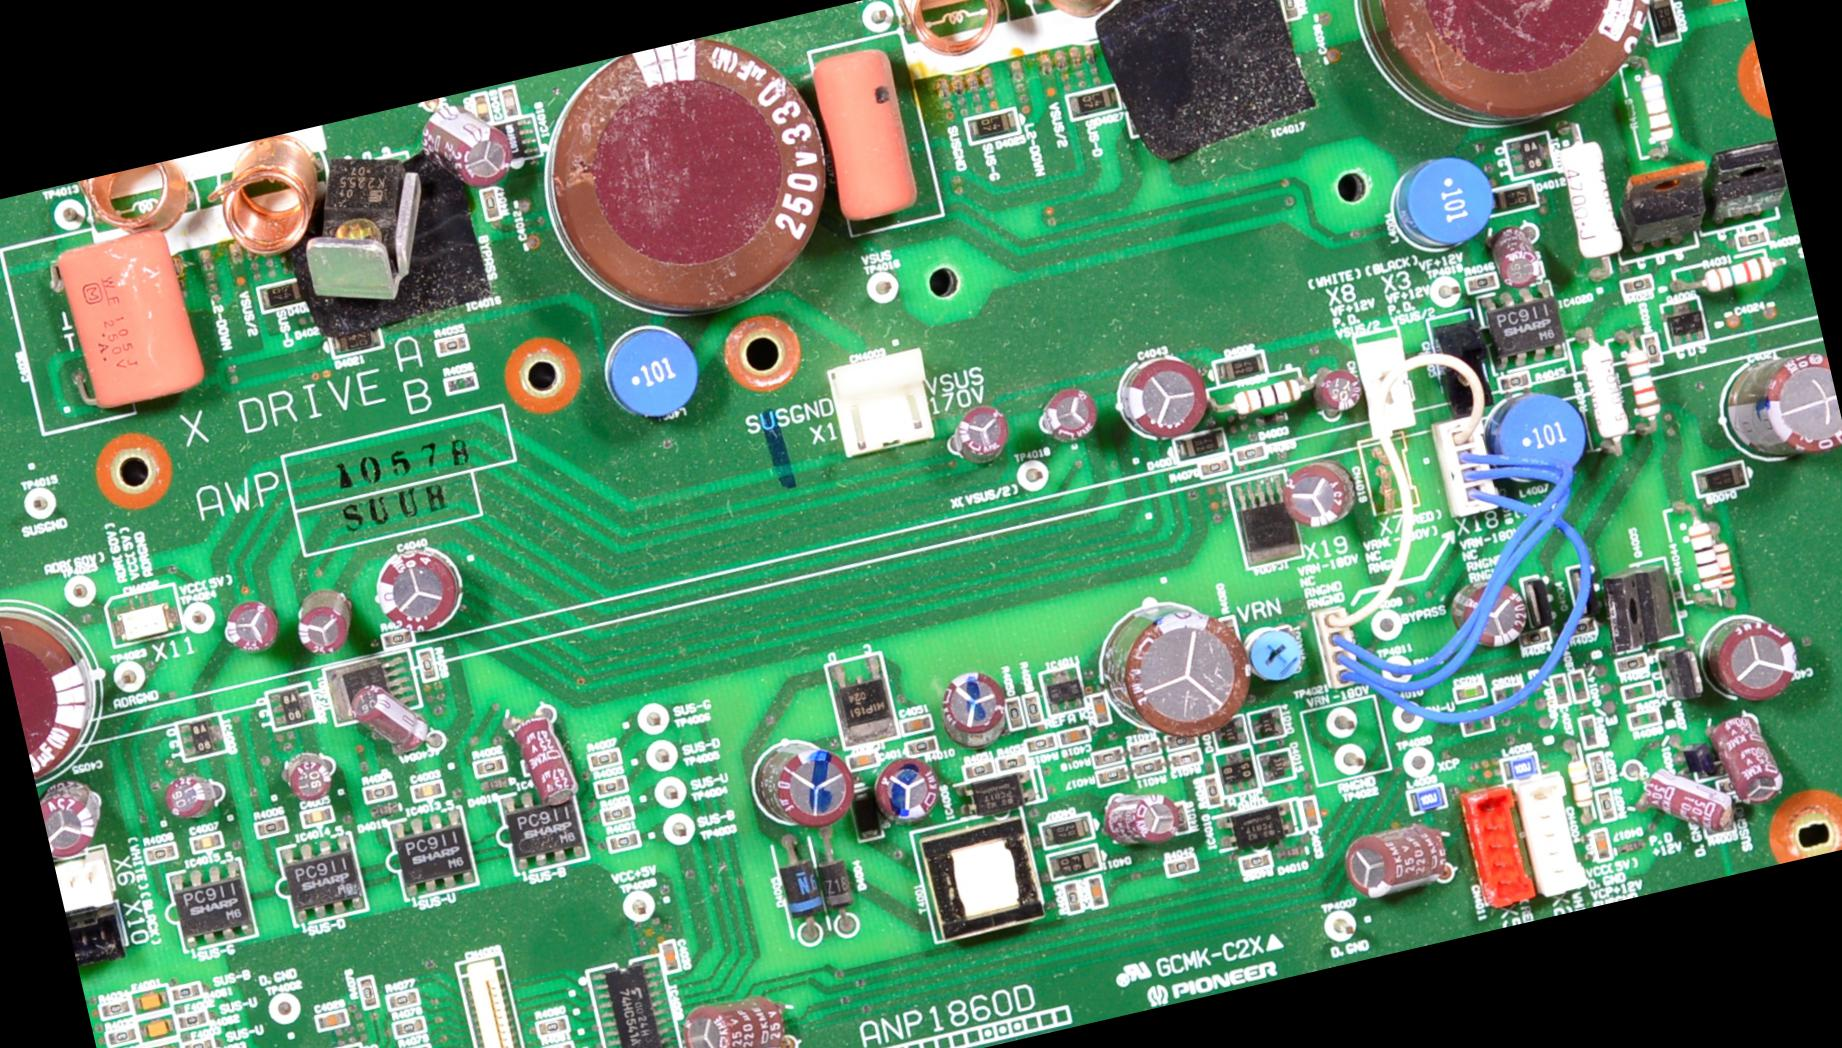Capacitor Jumper: (529, 14, 860, 347), (1350, 0, 1664, 147), (33, 227, 200, 432), (1104, 597, 1259, 742), (0, 602, 120, 787), (1729, 344, 1841, 471), (1694, 608, 1800, 708), (366, 540, 468, 637), (1115, 351, 1211, 448), (1643, 756, 1747, 844), (1344, 818, 1451, 900), (762, 738, 856, 829), (425, 96, 517, 189), (1710, 708, 1783, 802), (506, 706, 576, 802), (353, 677, 431, 759), (37, 772, 110, 857), (683, 991, 793, 1047), (1454, 575, 1531, 651), (1279, 457, 1356, 532), (1098, 781, 1179, 852), (937, 667, 1011, 743), (867, 754, 946, 821), (291, 589, 362, 659), (1489, 221, 1554, 291), (945, 405, 1013, 466), (1039, 382, 1101, 440), (162, 766, 226, 821), (221, 600, 282, 657), (1316, 363, 1370, 414), (277, 753, 333, 802), (1585, 823, 1621, 867), (1080, 687, 1113, 727), (128, 983, 171, 1013), (892, 709, 935, 738), (138, 1010, 177, 1040), (657, 935, 686, 975), (1295, 792, 1325, 832), (845, 747, 886, 775), (409, 776, 447, 802), (302, 801, 335, 830), (468, 87, 496, 122), (187, 828, 229, 851), (312, 1005, 348, 1030), (1058, 723, 1091, 749), (498, 84, 524, 118), (1087, 875, 1106, 905), (142, 1040, 186, 1047)
IC: (294, 157, 514, 348), (1088, 0, 1333, 165), (583, 947, 688, 1047), (381, 801, 479, 902), (496, 776, 591, 872), (273, 830, 367, 925), (315, 647, 425, 725), (1227, 465, 1308, 571), (161, 857, 250, 948), (824, 648, 898, 743), (1212, 799, 1309, 861), (259, 677, 320, 730), (173, 714, 235, 762), (1499, 132, 1560, 178), (496, 114, 543, 159)
Resistor Jumper: (1617, 335, 1671, 432), (1671, 513, 1727, 605), (1693, 246, 1785, 297), (1216, 372, 1307, 421), (1698, 527, 1742, 597), (429, 325, 477, 359), (1084, 740, 1130, 771), (1169, 742, 1211, 773), (102, 1016, 145, 1047), (166, 975, 206, 1006), (1584, 747, 1616, 786), (442, 366, 481, 397), (1016, 686, 1048, 725), (1228, 438, 1269, 468), (1513, 624, 1556, 652), (1001, 694, 1030, 734), (1237, 849, 1279, 877), (581, 743, 624, 770), (1196, 772, 1225, 811), (1128, 751, 1169, 778), (92, 991, 133, 1019), (1093, 762, 1134, 789), (1589, 786, 1619, 821), (414, 644, 440, 685), (1060, 880, 1087, 919), (1559, 615, 1602, 639), (479, 184, 505, 224), (603, 824, 641, 851), (175, 1007, 216, 1032), (1121, 735, 1164, 758), (386, 986, 424, 1011), (1618, 275, 1656, 300), (252, 810, 290, 835), (353, 975, 381, 1009), (1160, 727, 1199, 751), (1194, 456, 1233, 480), (472, 752, 511, 776), (361, 781, 400, 805), (1497, 367, 1535, 391), (1464, 272, 1503, 295), (905, 734, 944, 757), (1732, 229, 1772, 251), (958, 756, 996, 778), (535, 1013, 573, 1035), (140, 839, 175, 864), (601, 801, 636, 825), (1022, 732, 1059, 754), (591, 775, 627, 797), (1614, 653, 1652, 675), (1168, 801, 1190, 837), (391, 1011, 425, 1034), (998, 747, 1029, 772), (1163, 853, 1197, 875), (1276, 0, 1307, 24), (181, 1029, 214, 1047), (541, 1039, 579, 1047), (399, 1042, 436, 1047)
